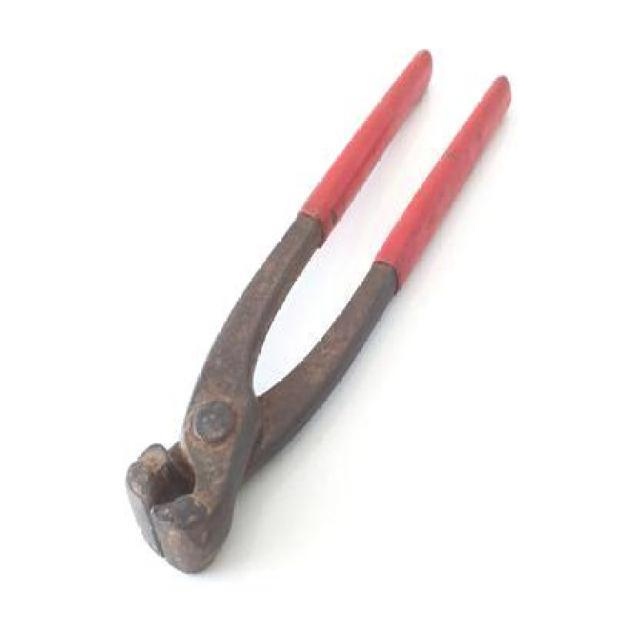pliers: (126, 42, 512, 578)
